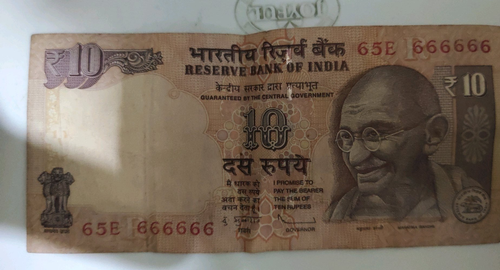ten_rupees_note: (27, 26, 500, 254)
